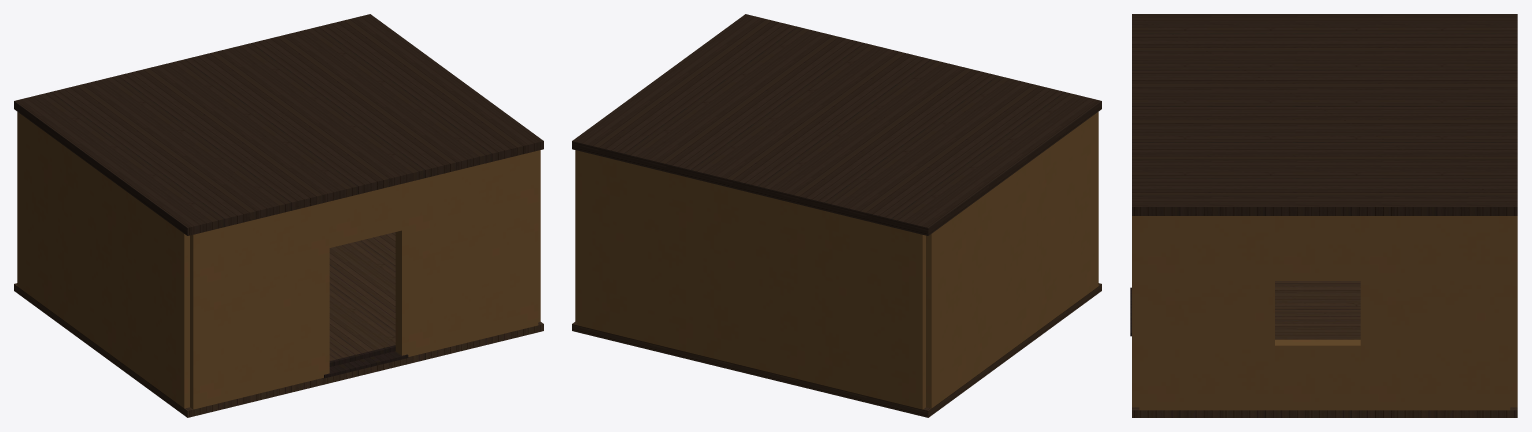
File: int_eu_house_01.glb
3 renders of one model, left to right at view 1: azimuth 30°, elevation 25°; view 2: azimuth 150°, elevation 25°; view 3: azimuth 270°, elevation 25°, orthographic. The views are drawn at different scales.
Visible parts, largest first — view 1: int_eu_house_01; view 2: int_eu_house_01; view 3: int_eu_house_01.
Part boxes in pixels (left/top/right/bottom): int_eu_house_01: left=14, top=14, right=543, bottom=417; int_eu_house_01: left=572, top=14, right=1101, bottom=417; int_eu_house_01: left=1130, top=14, right=1517, bottom=417.
Size of the model in its own units: 6.4 by 3.26 by 5.42.
Materials: 6 (6 with a texture image).
